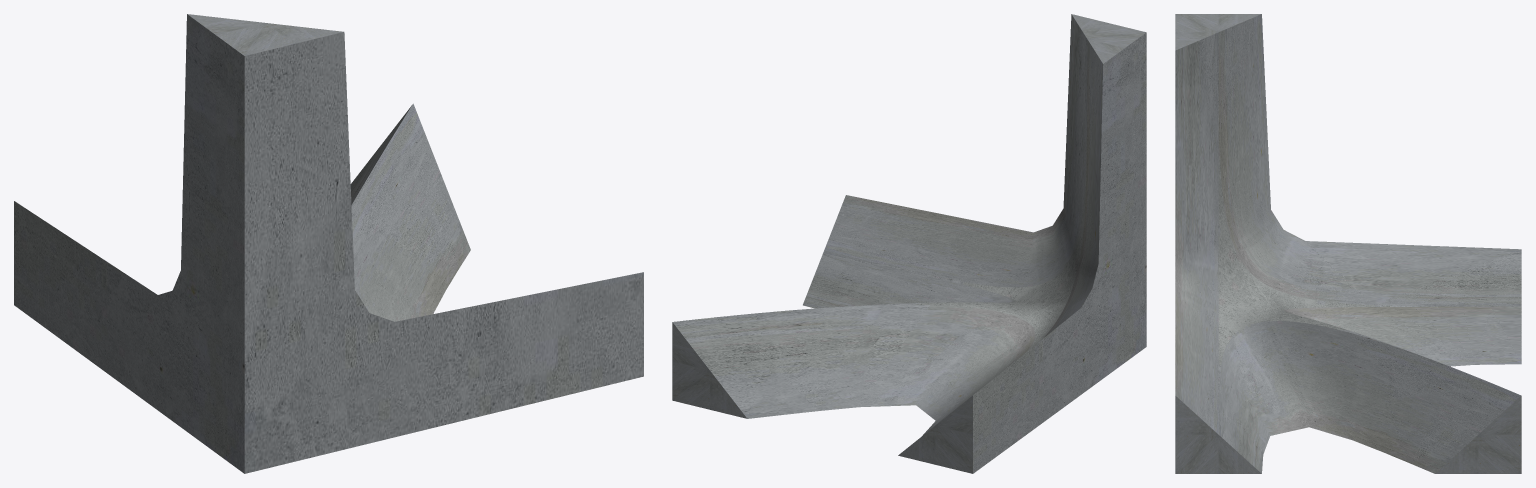
Rendered from module_J4.fbx.
The picture shows the model from 3 angles, left to right: view 1: azimuth 30°, elevation 25°; view 2: azimuth 150°, elevation 25°; view 3: azimuth 270°, elevation 25°; orthographic projection. The views are drawn at different scales.
Visible parts, largest first — view 1: modules; view 2: modules; view 3: modules.
Part boxes in pixels (box(x1,y1,x2,y2)): modules: box(14, 14, 643, 473); modules: box(672, 14, 1146, 473); modules: box(1175, 14, 1521, 473).
Size of the model in its own units: 1000 by 1000 by 1000.
1 material, 1 textured.
